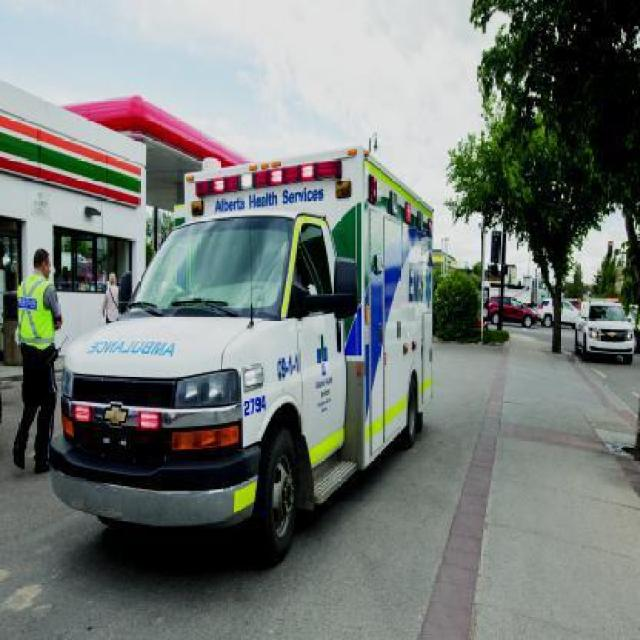Ambulance: (67, 124, 509, 582)
